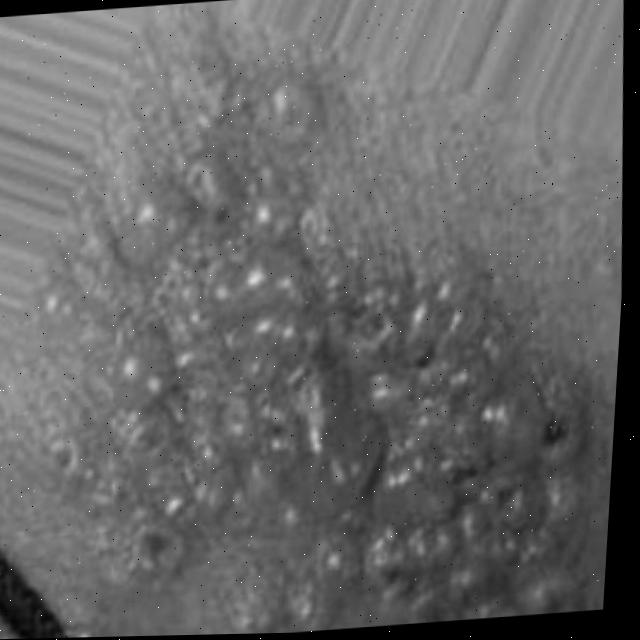Shingles: (10, 53, 631, 639)
